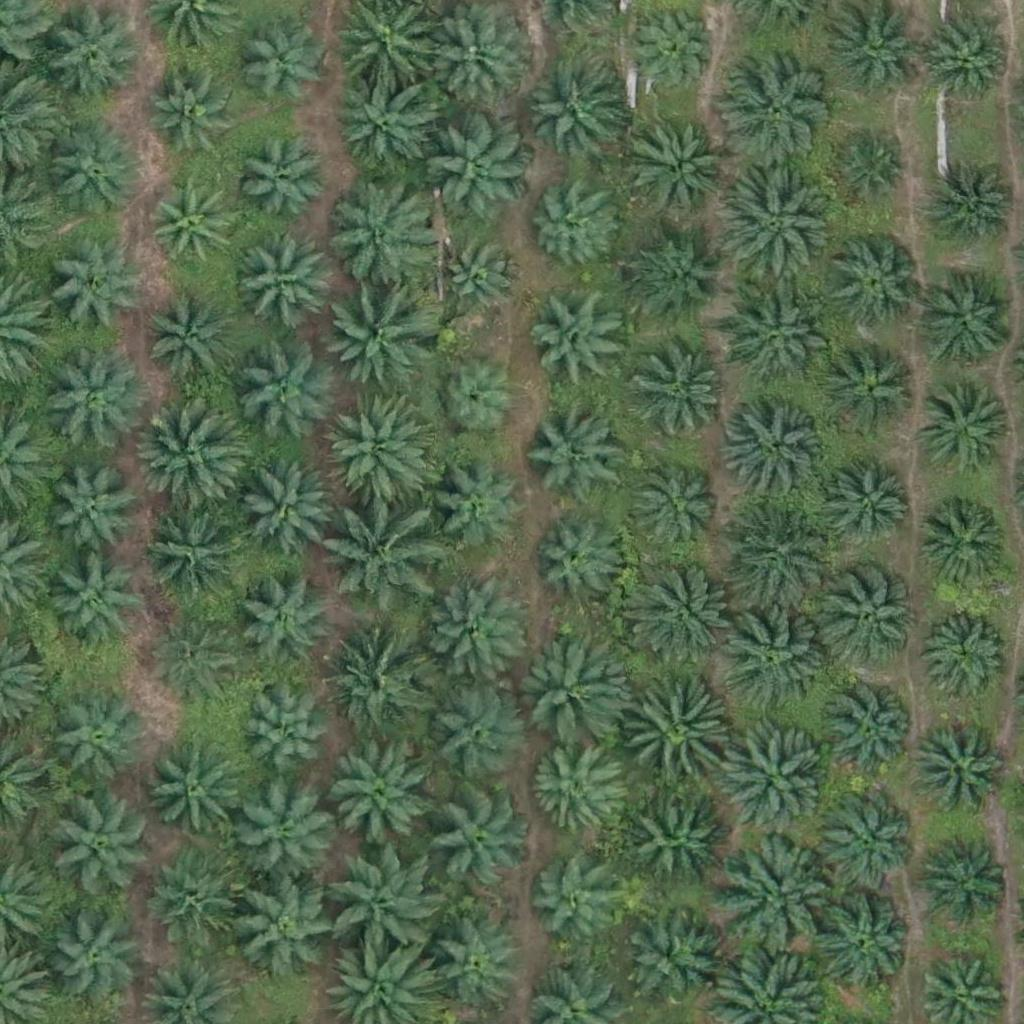Kelapa_Sawit: (623, 554, 736, 668), (715, 173, 828, 287), (717, 602, 830, 716), (46, 788, 159, 902), (135, 394, 248, 507), (323, 280, 436, 393), (320, 393, 433, 506), (715, 56, 828, 169), (720, 496, 833, 609), (722, 836, 835, 949), (713, 722, 826, 835), (327, 845, 440, 958), (327, 503, 439, 617), (317, 177, 429, 290), (617, 681, 729, 794), (610, 904, 722, 1017), (44, 116, 144, 217), (40, 348, 140, 449), (43, 549, 143, 650), (145, 604, 245, 705), (147, 507, 247, 608), (232, 234, 332, 335), (237, 343, 337, 444), (241, 460, 341, 561), (234, 572, 334, 673), (338, 1, 438, 102), (338, 71, 438, 172), (325, 636, 425, 737), (420, 584, 520, 685), (426, 6, 526, 107), (513, 635, 613, 736), (626, 114, 726, 215), (724, 293, 824, 394), (726, 402, 826, 503), (824, 337, 924, 438), (913, 382, 1013, 483), (813, 890, 913, 991), (631, 796, 731, 897), (529, 853, 629, 954), (429, 792, 529, 893), (426, 914, 526, 1015), (328, 740, 428, 841), (235, 784, 335, 885), (146, 741, 246, 842), (43, 9, 143, 109), (43, 687, 143, 787), (429, 116, 529, 216), (524, 64, 624, 164), (527, 281, 627, 381), (525, 397, 625, 497), (420, 682, 520, 782), (623, 453, 723, 553), (630, 340, 730, 440), (629, 232, 729, 332), (824, 564, 924, 664), (823, 232, 923, 332), (917, 275, 1017, 375), (917, 496, 1017, 596), (816, 685, 916, 785), (918, 828, 1018, 928), (910, 719, 1010, 819), (819, 792, 919, 892), (240, 883, 340, 983), (146, 850, 246, 950), (145, 185, 233, 274), (631, 7, 719, 96), (51, 472, 139, 560), (149, 79, 237, 167), (238, 23, 326, 111), (432, 360, 520, 448), (436, 236, 524, 324), (525, 181, 613, 269), (920, 606, 1008, 694), (531, 748, 619, 836), (430, 465, 517, 554), (928, 14, 1015, 103), (50, 247, 137, 335), (143, 301, 230, 389), (237, 139, 324, 227), (243, 696, 330, 784), (533, 514, 620, 602), (820, 462, 907, 550), (831, 13, 918, 101), (53, 916, 140, 1004), (832, 135, 907, 211)
